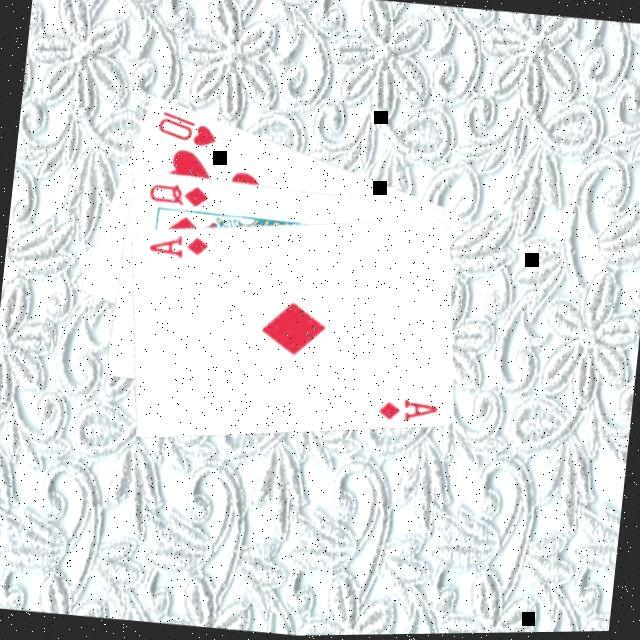10H: (151, 104, 220, 150)
AD: (372, 390, 440, 428), (143, 226, 210, 262)
QD: (143, 174, 211, 210)
